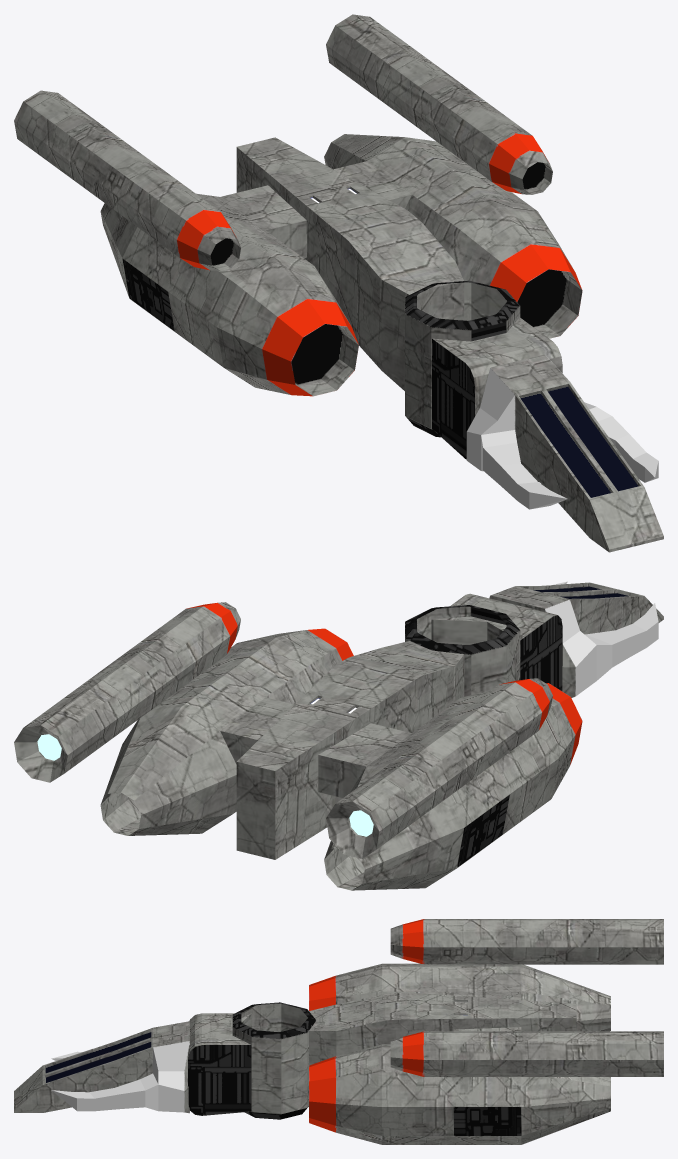
The model's file is corsairFighter.fbx.
3 renders of one model, top to bottom at view 1: azimuth 30°, elevation 25°; view 2: azimuth 150°, elevation 25°; view 3: azimuth 270°, elevation 25°, orthographic. The views are drawn at different scales.
Visible parts, largest first — view 1: EngineSide, EngineSide.001, Head, Body, Neck, MidSection; view 2: EngineSide, EngineSide.001, Body, Head, Neck, MidSection; view 3: EngineSide, EngineSide.001, Head, Body, MidSection, Neck.
Boxes of the visible parts, <box> form: EngineSide: <box>100,134,582,396</box>; EngineSide.001: <box>14,14,552,270</box>; Head: <box>466,354,663,552</box>; Body: <box>236,137,464,390</box>; Neck: <box>432,317,562,459</box>; MidSection: <box>405,280,520,437</box>; EngineSide: <box>100,628,582,890</box>; EngineSide.001: <box>14,602,552,858</box>; Body: <box>236,641,464,859</box>; Head: <box>489,581,663,697</box>; Neck: <box>431,593,562,690</box>; MidSection: <box>405,605,520,696</box>; EngineSide: <box>309,963,610,1144</box>; EngineSide.001: <box>390,919,663,1076</box>; Head: <box>14,1021,189,1113</box>; Body: <box>309,992,576,1065</box>; MidSection: <box>232,1002,315,1119</box>; Neck: <box>188,1013,251,1115</box>.
Size of the model in its own units: 1337 by 604 by 2787.
